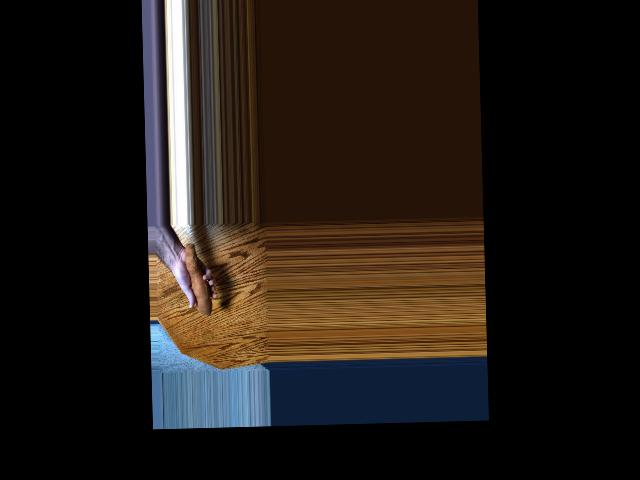sweet_potato: (183, 244, 212, 317)
